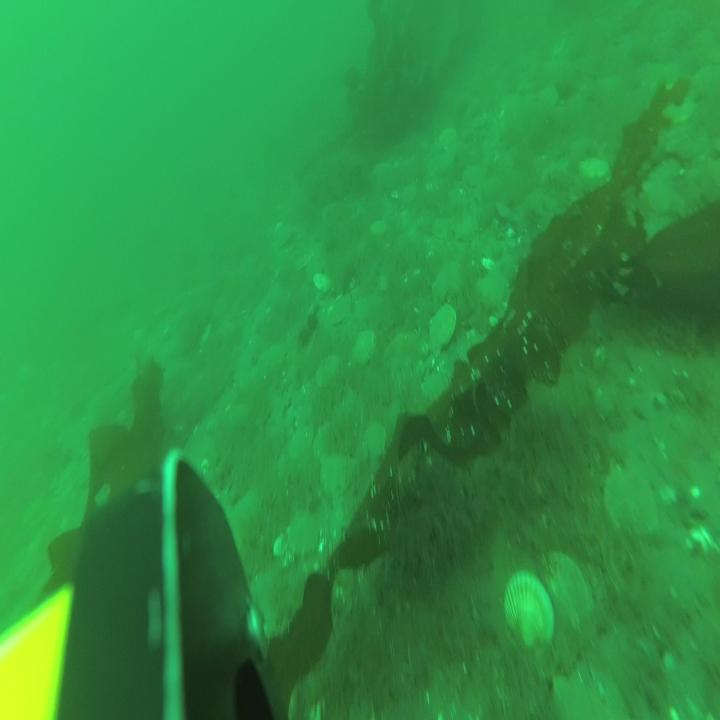scallop: (505, 570, 554, 652), (546, 546, 591, 635), (602, 464, 656, 536), (285, 510, 321, 561), (321, 448, 353, 500), (475, 266, 508, 316), (429, 302, 457, 353), (579, 154, 612, 192), (362, 421, 388, 466), (352, 330, 377, 372), (257, 345, 287, 379), (288, 423, 314, 459), (463, 162, 485, 194), (330, 294, 351, 327)
